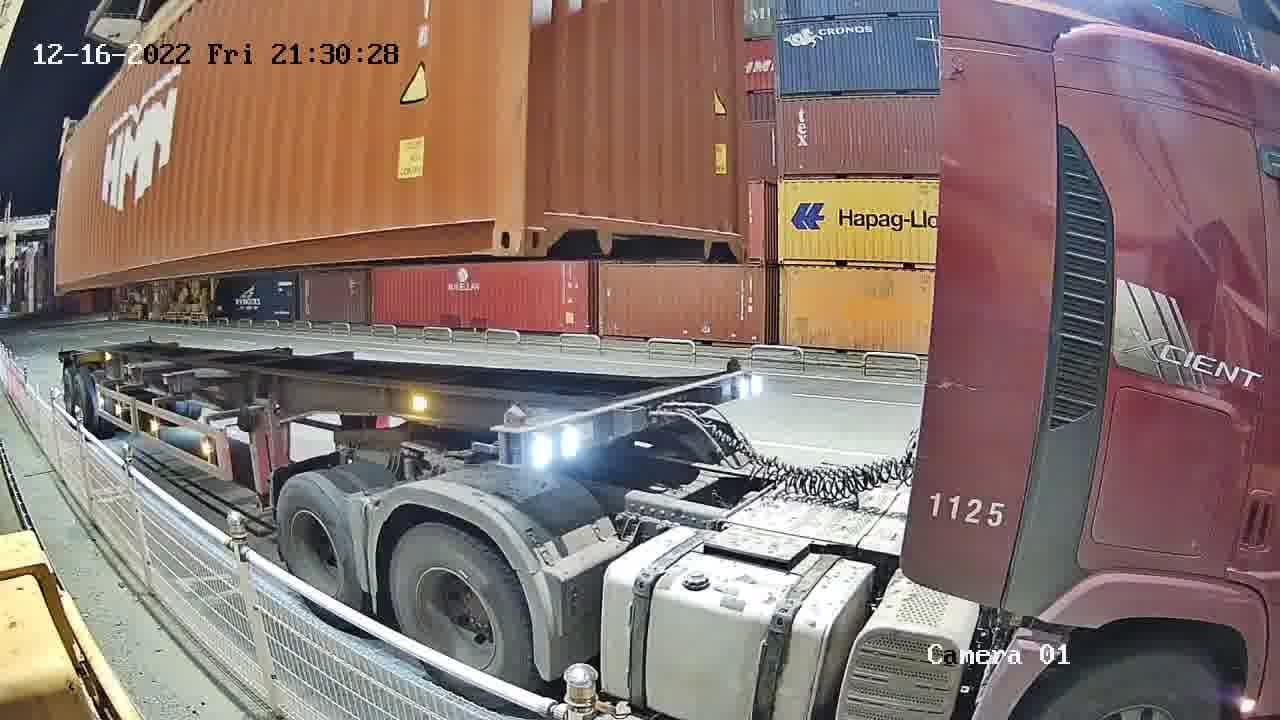Chassis: (521, 375, 755, 482)
Cone: (488, 432, 527, 484)
Container: (526, 187, 751, 271)
Hole_L: (524, 187, 562, 258)
Hole_R: (471, 184, 525, 258), (723, 217, 749, 267)
Tire: (391, 530, 532, 688), (278, 481, 360, 608)
